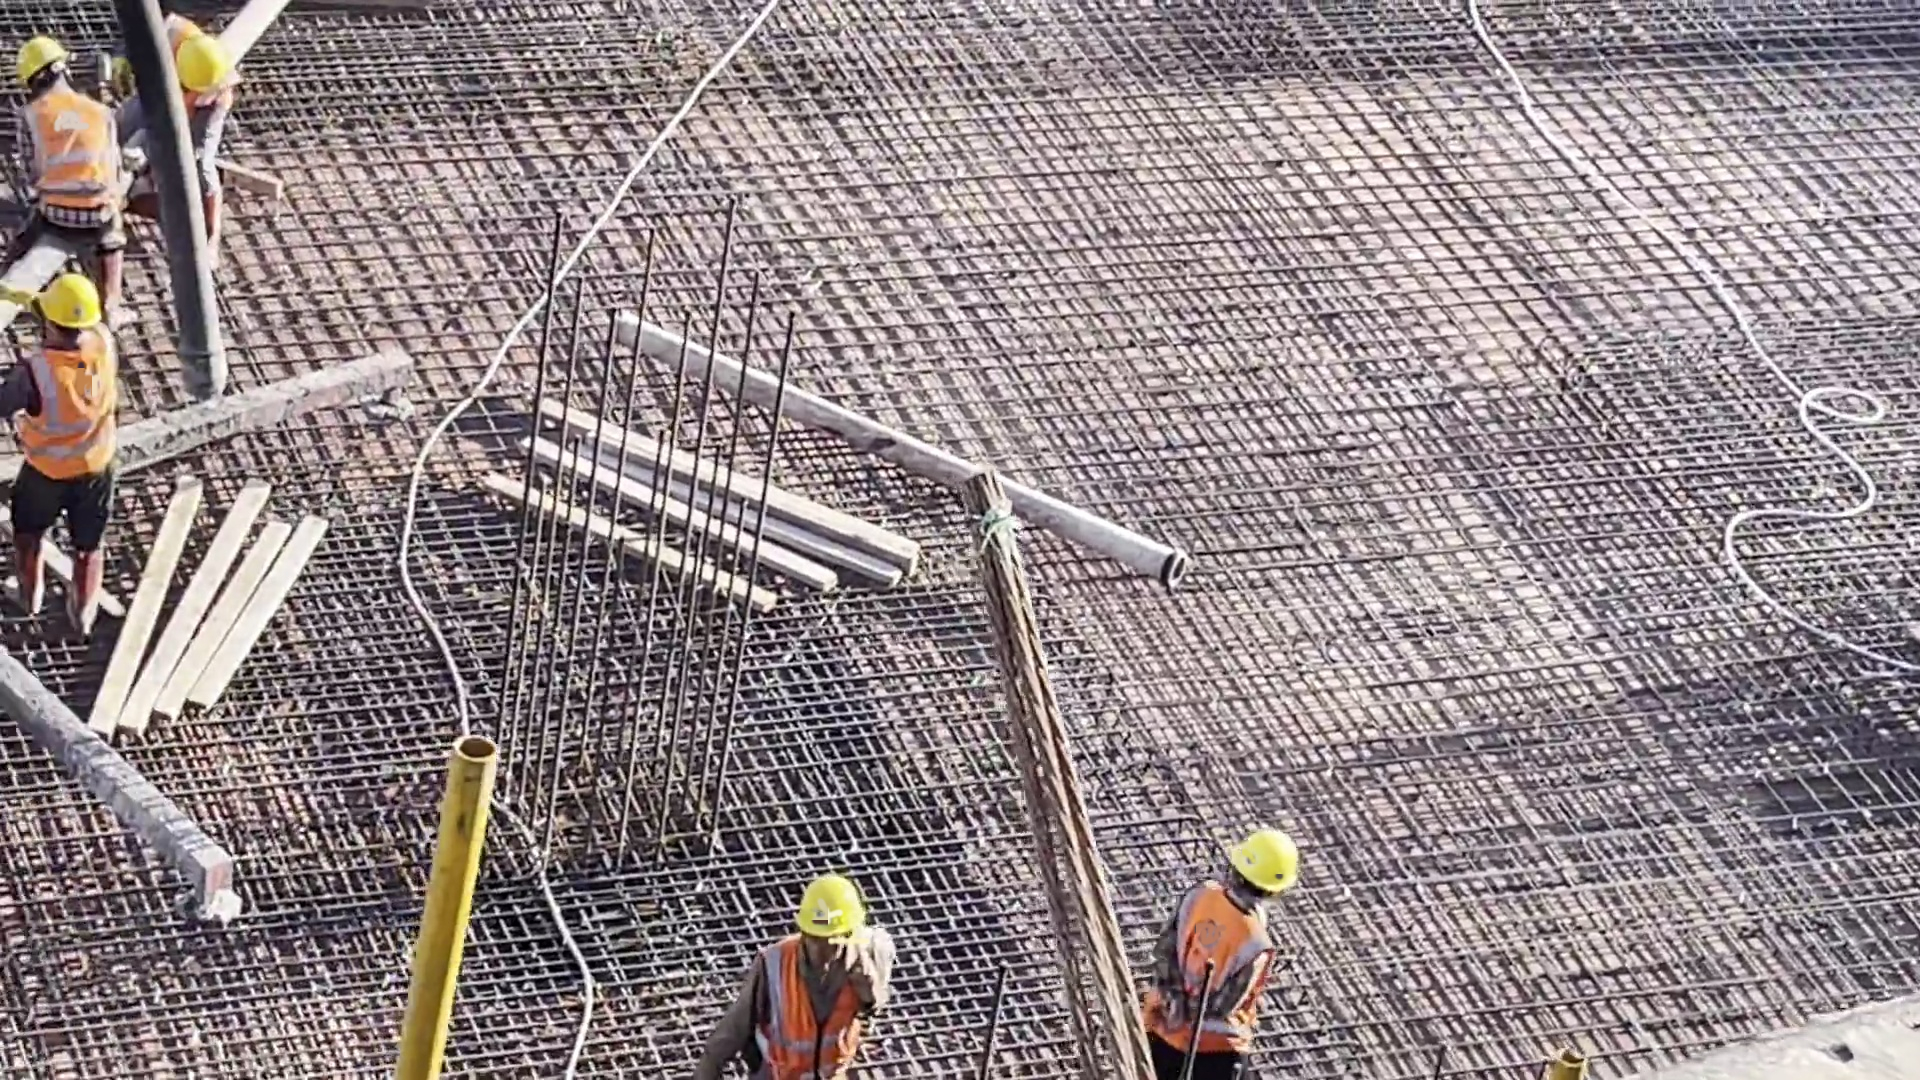helmet: (36, 279, 108, 327), (1233, 835, 1292, 891), (788, 881, 853, 932), (181, 36, 227, 88), (17, 40, 71, 84)
person: (1, 277, 132, 661), (684, 876, 892, 1080), (1149, 832, 1295, 1080), (1, 43, 140, 291), (115, 16, 226, 279)
vest: (1169, 888, 1261, 1047), (764, 944, 872, 1073), (29, 103, 121, 228), (32, 344, 111, 484), (165, 17, 228, 123)
